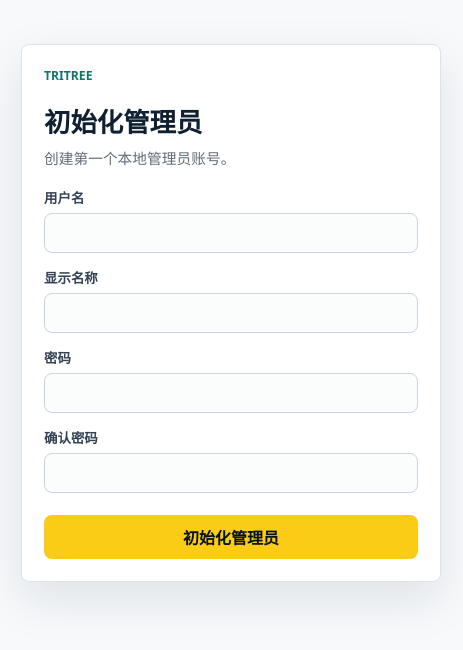
Test: SetupAdminForm › validates password confirmation before posting
Type "awei" into the field labelled "用户名" at (231, 233), box [44,213,418,253]
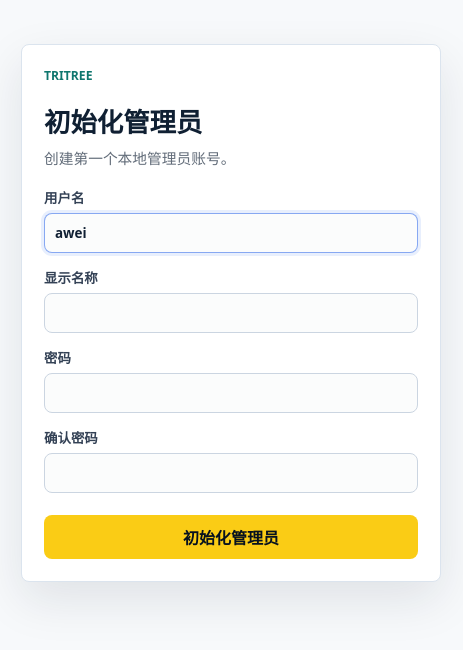
Type "Awei" into the field labelled "显示名称" at (231, 313), box [44,293,418,333]
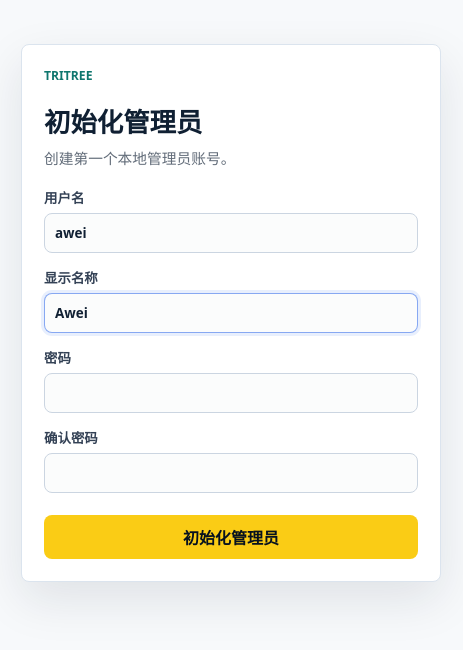
Type "password-123" into the password field labelled "密码" at (231, 393), box [44,373,418,413]
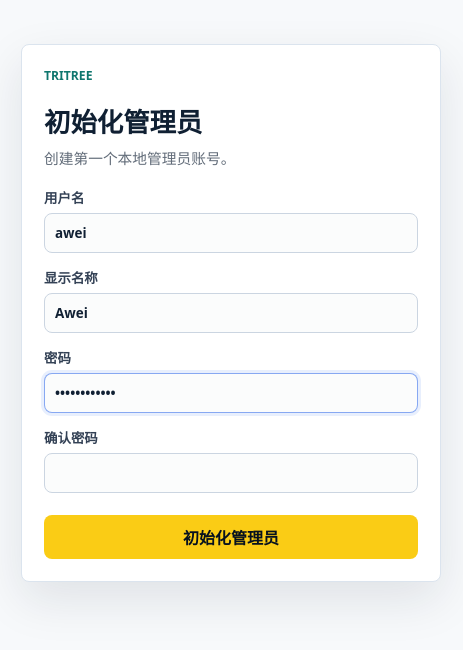
Type "password-456" into the password field labelled "确认密码" at (231, 473), box [44,453,418,493]
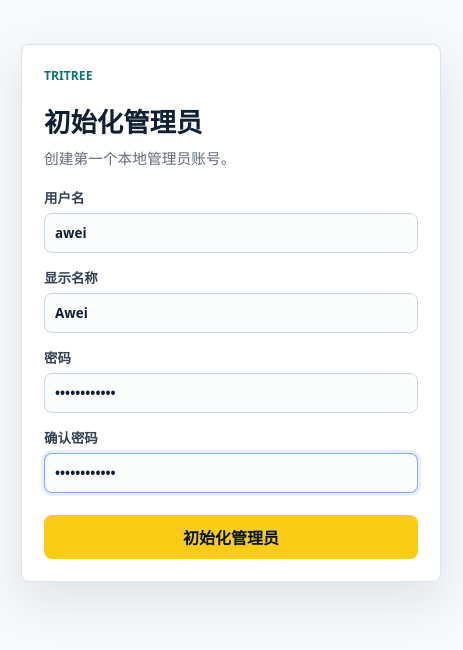
Click the button "初始化管理员" at (231, 537), box [44,515,418,559]
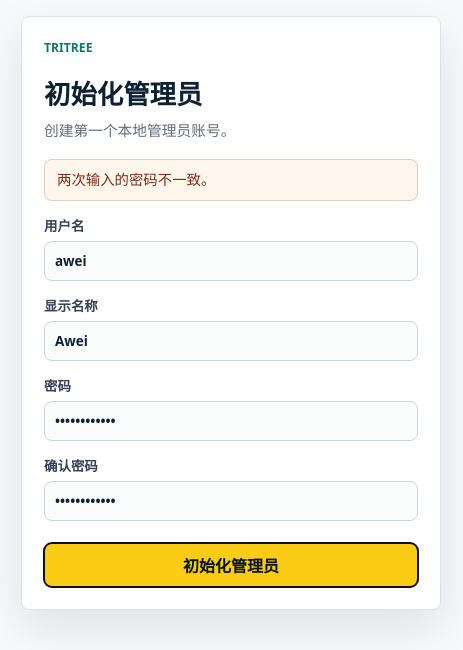
Now the message reads "两次输入的密码不一致。", box [57,170,215,189]
